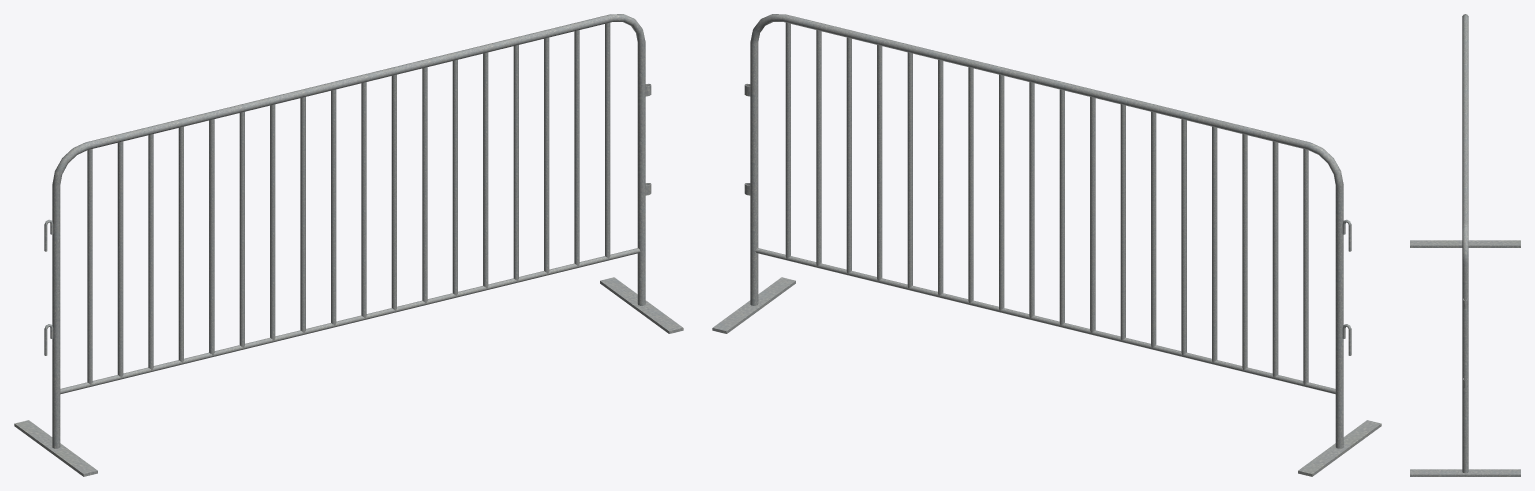
Rendered from Pedestrian_Barrier_01.fbx.
The picture shows the model from 3 angles, left to right: view 1: azimuth 30°, elevation 25°; view 2: azimuth 150°, elevation 25°; view 3: azimuth 270°, elevation 25°; orthographic projection. The views are drawn at different scales.
Visible parts, largest first — view 1: Pedestrian_Barrier_01_LOD0; view 2: Pedestrian_Barrier_01_LOD0; view 3: Pedestrian_Barrier_01_LOD0.
Boxes of the visible parts, x1,y1,x2,y2 form: Pedestrian_Barrier_01_LOD0: (14,14,683,476); Pedestrian_Barrier_01_LOD0: (712,14,1381,476); Pedestrian_Barrier_01_LOD0: (1410,14,1520,476).
Size of what is drawn, in the model's own units: 259 by 122 by 51.19.
